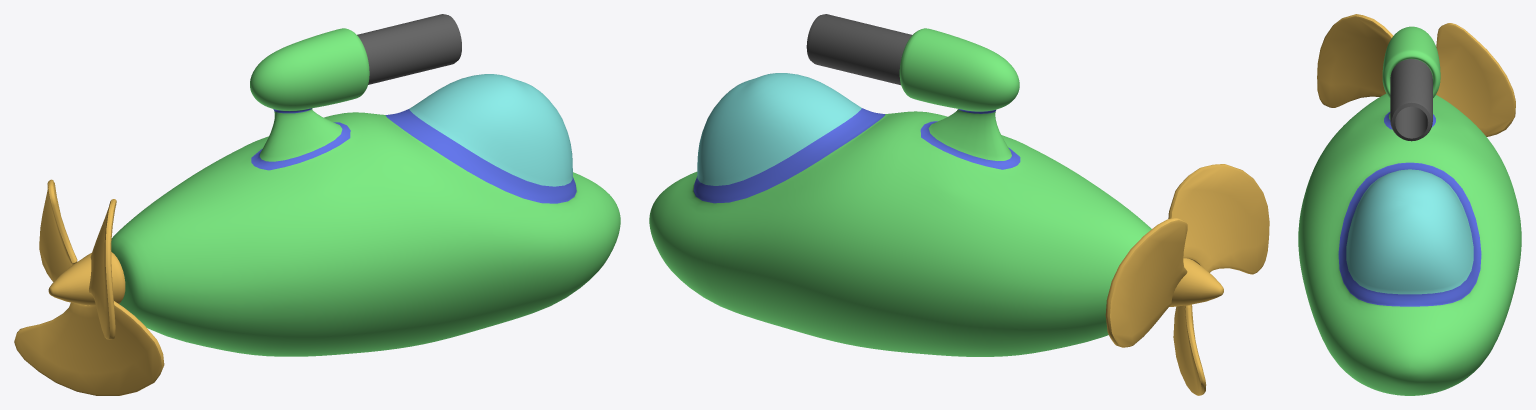
File: NaveBase.fbx
3 renders of one model, left to right at view 1: azimuth 30°, elevation 25°; view 2: azimuth 150°, elevation 25°; view 3: azimuth 270°, elevation 25°, orthographic. The views are drawn at different scales.
Parts seen in each view (by area): view 1: ShipBase.003, Sphere.005, CannonBarrell#1.002, Turbine.003; view 2: ShipBase.003, Sphere.005, CannonBarrell#1.002, Turbine.003; view 3: ShipBase.003, Sphere.005, CannonBarrell#1.002.
Part boxes in pixels (<box>): ShipBase.003: <box>111,28,620,356</box>; Sphere.005: <box>14,179,164,395</box>; CannonBarrell#1.002: <box>357,14,461,84</box>; Turbine.003: <box>48,252,125,305</box>; ShipBase.003: <box>649,28,1151,356</box>; Sphere.005: <box>1105,164,1269,395</box>; CannonBarrell#1.002: <box>806,14,911,85</box>; Turbine.003: <box>1169,258,1223,306</box>; ShipBase.003: <box>1298,26,1521,395</box>; Sphere.005: <box>1317,14,1515,136</box>; CannonBarrell#1.002: <box>1390,59,1432,141</box>.
Size of the model in its own units: 269 by 142 by 105.
